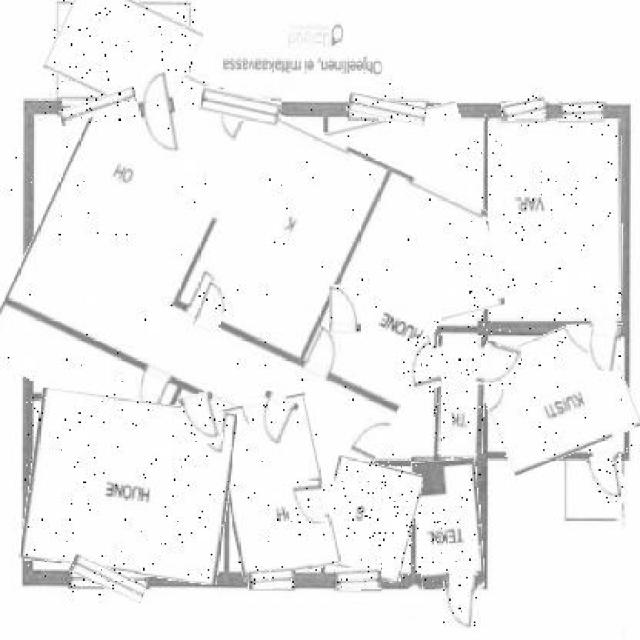door: (135, 71, 180, 166), (251, 392, 297, 451), (182, 392, 222, 445), (443, 574, 479, 631), (477, 343, 521, 389), (403, 337, 439, 392), (588, 454, 623, 504), (197, 281, 228, 334), (588, 323, 620, 372), (289, 482, 326, 524), (329, 284, 360, 334)
window: (68, 562, 146, 596), (200, 91, 282, 123), (60, 92, 140, 120), (348, 95, 426, 123), (336, 568, 382, 589), (248, 569, 295, 589), (502, 97, 546, 118), (558, 102, 604, 118)
zone: (4, 78, 462, 491), (314, 109, 494, 334), (25, 395, 232, 580), (489, 120, 622, 325), (478, 325, 634, 466), (218, 396, 332, 578), (50, 0, 196, 111), (318, 460, 418, 580), (414, 458, 483, 590), (434, 337, 484, 454)
